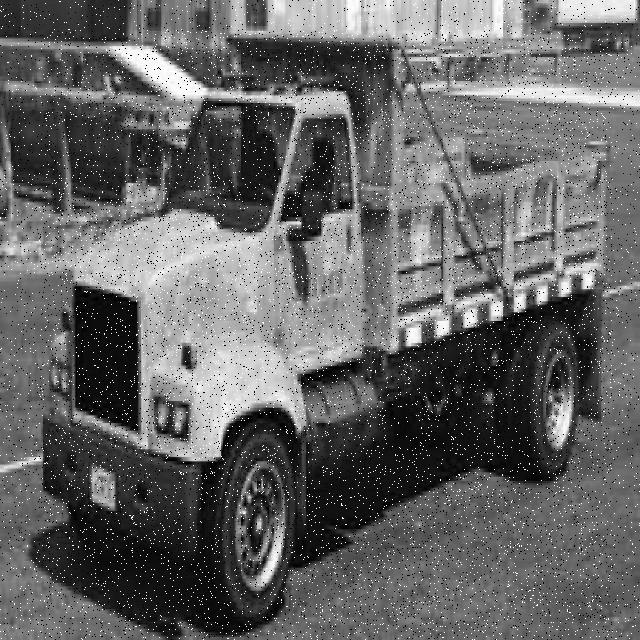Box Truck: (41, 32, 612, 638)
